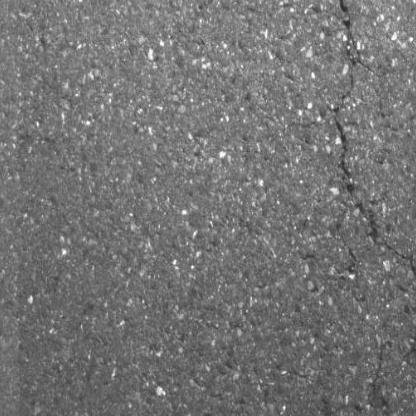Cracks: (324, 0, 416, 356)
